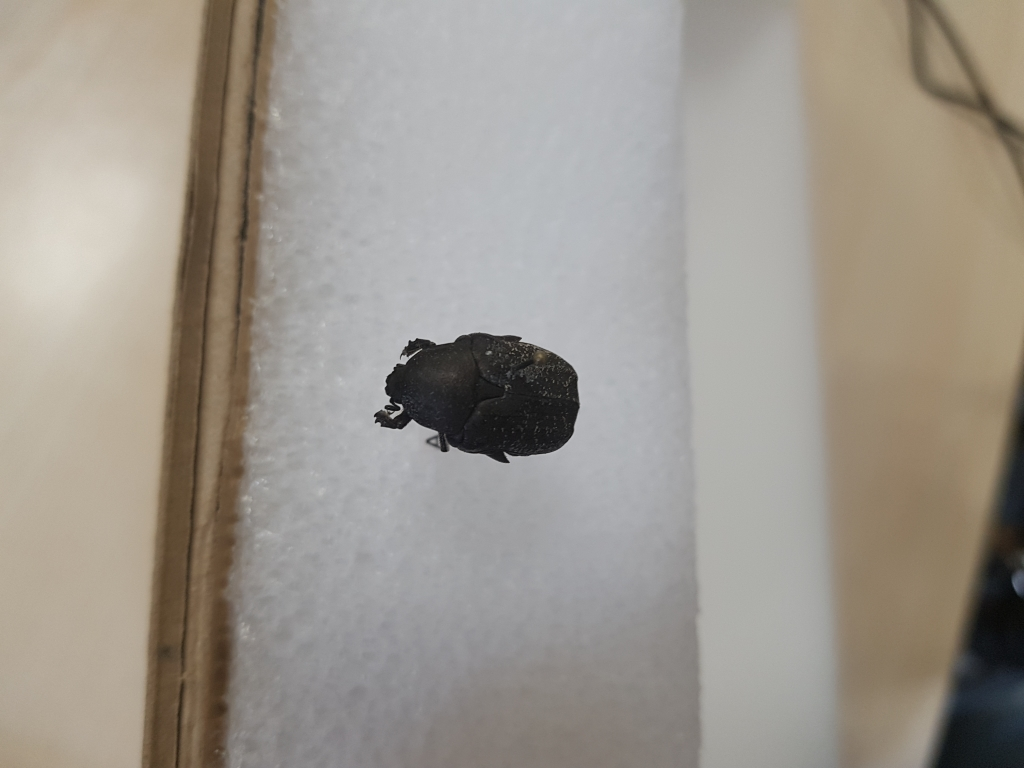Protaetia_asiatica: (361, 330, 587, 473)
